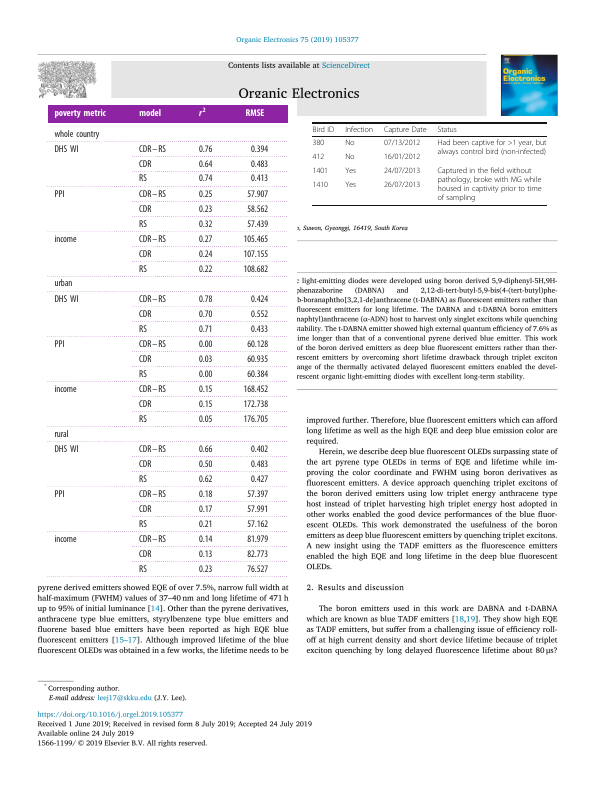borderless: (46, 103, 289, 578), (312, 121, 547, 205)
cell: (436, 166, 542, 203), (436, 138, 547, 157), (54, 109, 107, 120), (54, 129, 100, 140), (383, 125, 427, 134), (383, 138, 421, 148), (383, 152, 421, 162), (383, 166, 421, 176), (383, 180, 421, 190), (138, 144, 167, 155), (138, 189, 167, 200), (138, 234, 167, 245), (138, 294, 167, 305), (138, 339, 167, 350), (138, 384, 167, 395), (138, 444, 167, 455), (138, 489, 167, 500), (138, 534, 167, 545), (54, 144, 80, 155), (243, 234, 269, 245), (243, 249, 269, 260), (243, 264, 269, 275), (54, 294, 80, 305), (243, 384, 269, 395), (243, 399, 269, 410), (243, 414, 269, 425), (54, 444, 80, 455), (344, 125, 374, 134), (138, 109, 162, 120), (54, 234, 78, 245), (54, 384, 78, 395), (54, 534, 78, 545), (246, 189, 269, 200), (246, 204, 269, 215), (246, 219, 269, 230), (246, 339, 269, 350), (246, 354, 269, 365), (246, 369, 269, 380), (246, 489, 269, 500), (246, 504, 269, 515), (246, 519, 269, 530), (246, 534, 269, 545), (246, 549, 269, 560), (246, 564, 269, 575), (245, 109, 265, 120), (250, 144, 269, 155), (250, 159, 269, 170), (250, 174, 269, 185), (54, 279, 73, 290), (250, 294, 269, 305), (250, 309, 269, 320), (250, 324, 269, 335), (250, 444, 269, 455), (250, 459, 269, 470), (250, 474, 269, 485), (312, 125, 335, 134), (436, 125, 458, 134), (54, 429, 70, 440), (312, 166, 329, 176), (312, 180, 329, 190), (198, 144, 213, 155), (198, 159, 213, 170), (198, 174, 213, 185), (198, 189, 213, 200), (198, 204, 213, 215), (198, 219, 213, 230), (198, 234, 213, 245), (198, 249, 213, 260), (198, 264, 213, 275), (198, 294, 213, 305), (198, 309, 213, 320), (198, 324, 213, 335), (198, 339, 213, 350), (198, 354, 213, 365), (198, 369, 213, 380), (198, 384, 213, 395), (198, 399, 213, 410), (198, 414, 213, 425), (198, 444, 213, 455), (198, 459, 213, 470), (198, 474, 213, 485), (198, 489, 213, 500), (198, 504, 213, 515), (198, 519, 213, 530), (198, 534, 213, 545), (198, 549, 213, 560), (198, 564, 213, 575), (138, 159, 152, 170), (138, 204, 152, 215), (138, 249, 152, 260), (138, 309, 152, 320), (138, 354, 152, 365), (138, 399, 152, 410), (138, 459, 152, 470), (138, 504, 152, 515), (138, 549, 152, 560), (312, 138, 325, 148), (312, 152, 325, 162), (344, 166, 357, 176), (344, 180, 357, 190), (54, 189, 65, 200), (54, 339, 65, 350), (54, 489, 65, 500), (138, 174, 148, 185), (138, 219, 148, 230), (138, 264, 148, 275), (138, 324, 148, 335), (138, 369, 148, 380), (138, 414, 148, 425), (138, 474, 148, 485), (138, 519, 148, 530), (138, 564, 148, 575), (344, 138, 355, 148), (344, 152, 355, 162), (198, 106, 207, 118)
